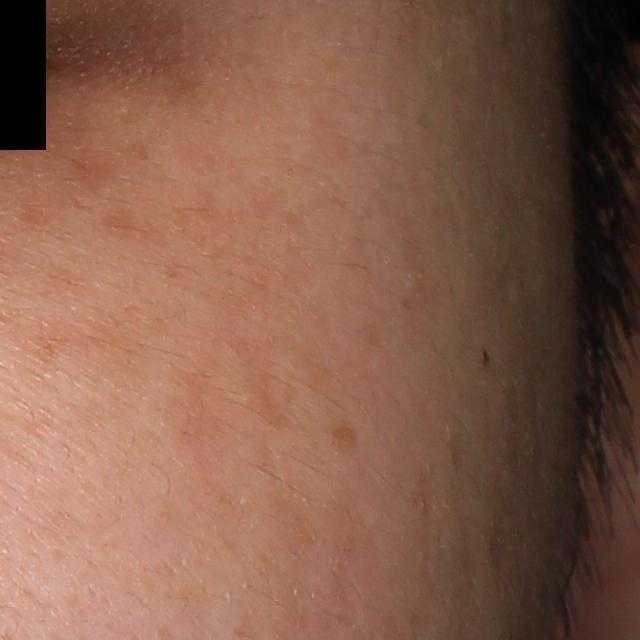melasma: (65, 139, 155, 201), (329, 420, 363, 453)
nevus: (480, 346, 493, 370)
